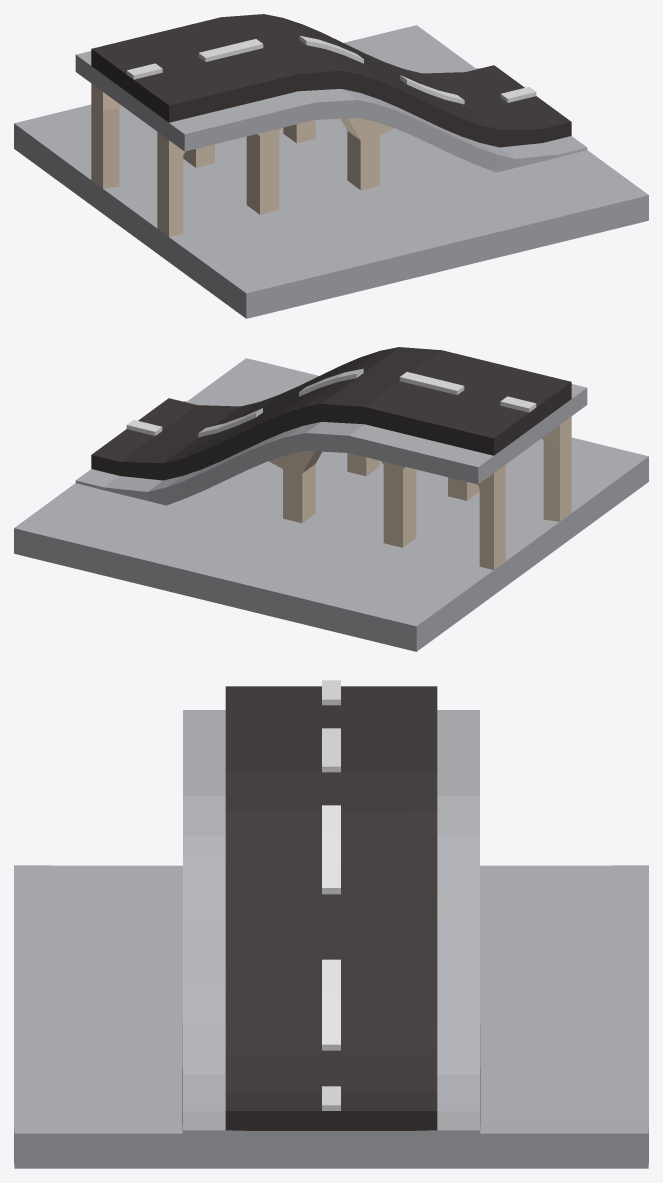
Rendered from Street_Bridge_Ramp.glb.
3 views of the same model, one above another, from view 1: azimuth 30°, elevation 25°; view 2: azimuth 150°, elevation 25°; view 3: azimuth 270°, elevation 25° (orthographic). The views are drawn at different scales.
Visible parts, largest first — view 1: Street_Bridge_Ramp; view 2: Street_Bridge_Ramp; view 3: Street_Bridge_Ramp.
Boxes of the visible parts, bbox=[...] form: Street_Bridge_Ramp: bbox=[14, 14, 648, 318]; Street_Bridge_Ramp: bbox=[14, 347, 648, 651]; Street_Bridge_Ramp: bbox=[14, 680, 648, 1168].
Size of the model in its own units: 2 by 0.7638 by 2.
